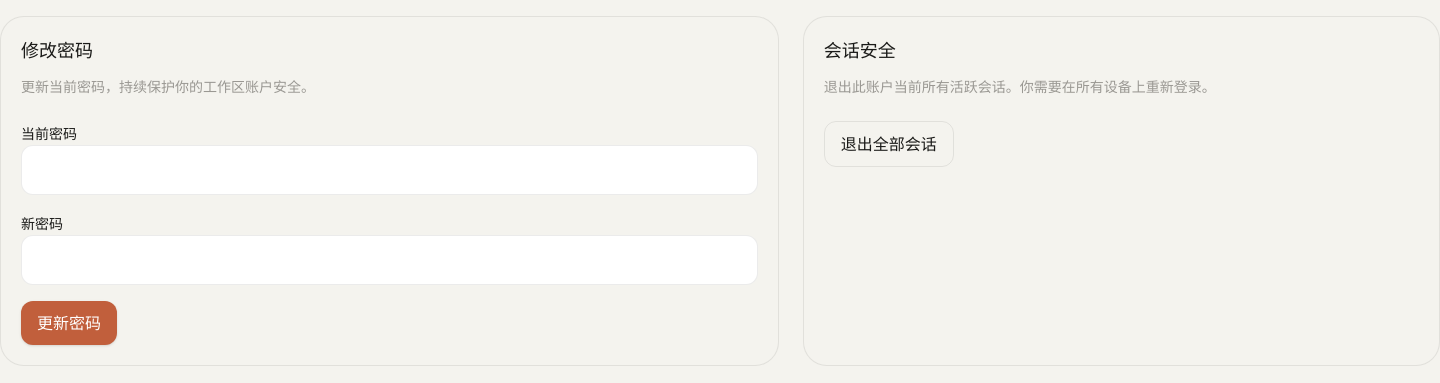
Scenario: SecuritySettingsTab › shows the loading label while revoking all sessions
This screenshot has width=1440, height=383.
Click the button "退出全部会话".
click(889, 144)  # box [824,121,954,167]
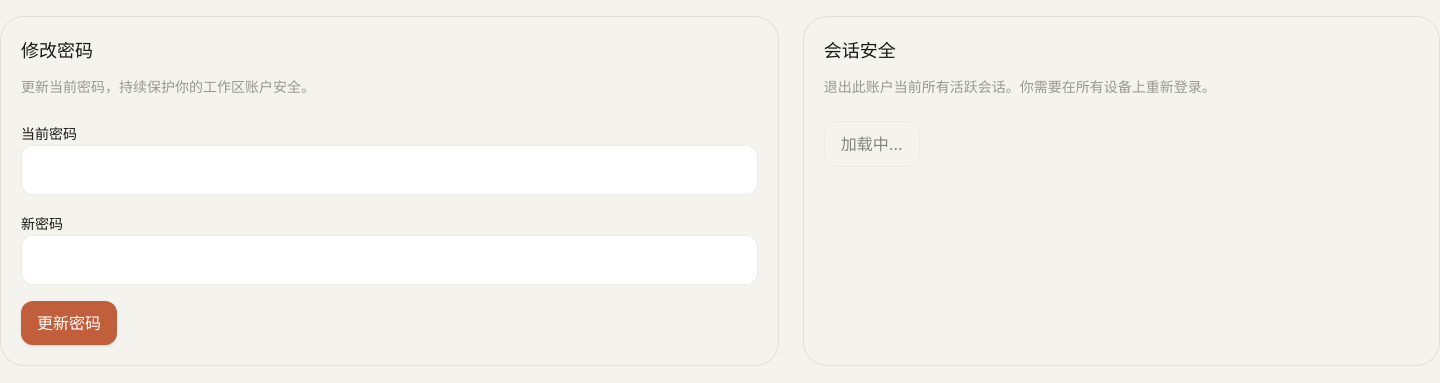
Now the button "加载中..." is disabled, box [824,121,920,167]
